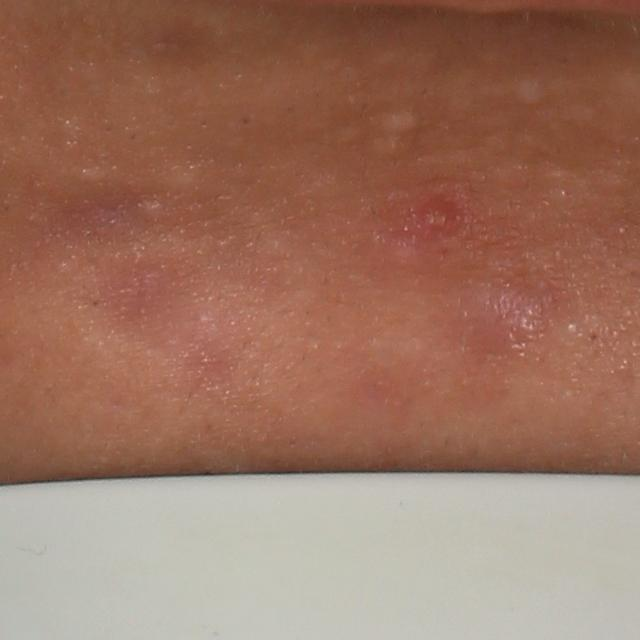hypertrophic_scar: (421, 63, 512, 113), (371, 38, 450, 70), (483, 152, 542, 194), (159, 156, 211, 192), (364, 132, 419, 159), (375, 109, 428, 134), (515, 73, 549, 106), (78, 165, 110, 184), (143, 199, 165, 216)
papule: (453, 286, 544, 355), (406, 189, 482, 248)
